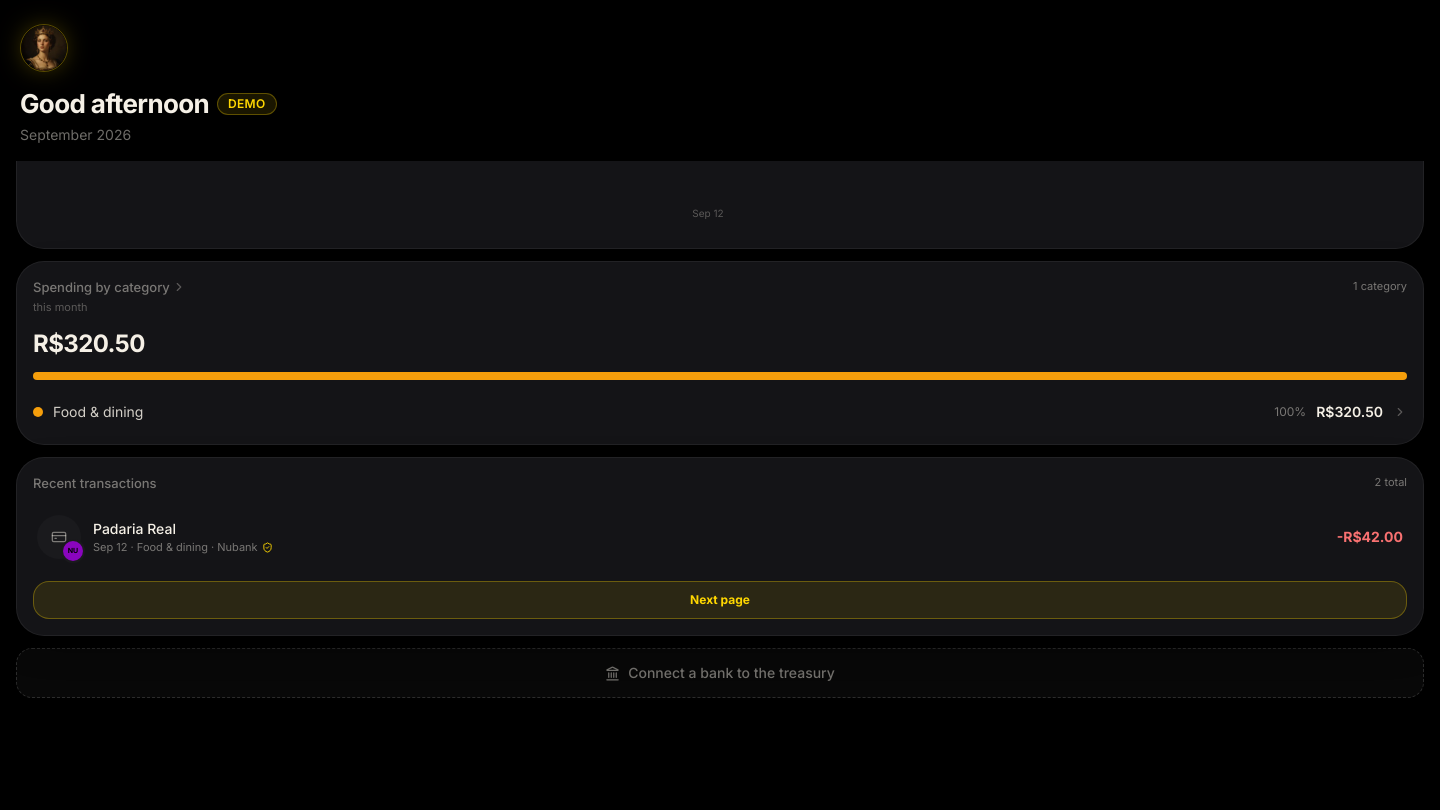
Test case: HomeScreen › loads the next page into the list and the income sheet
(page scrolled)
Expected: the text "Padaria Real" is shown, [93,520,176,537]
Expected: the text "2 total" is shown, [1375,474,1407,490]
Click the button "Next page": (720, 600) [33,581,1407,619]
(page scrolled)
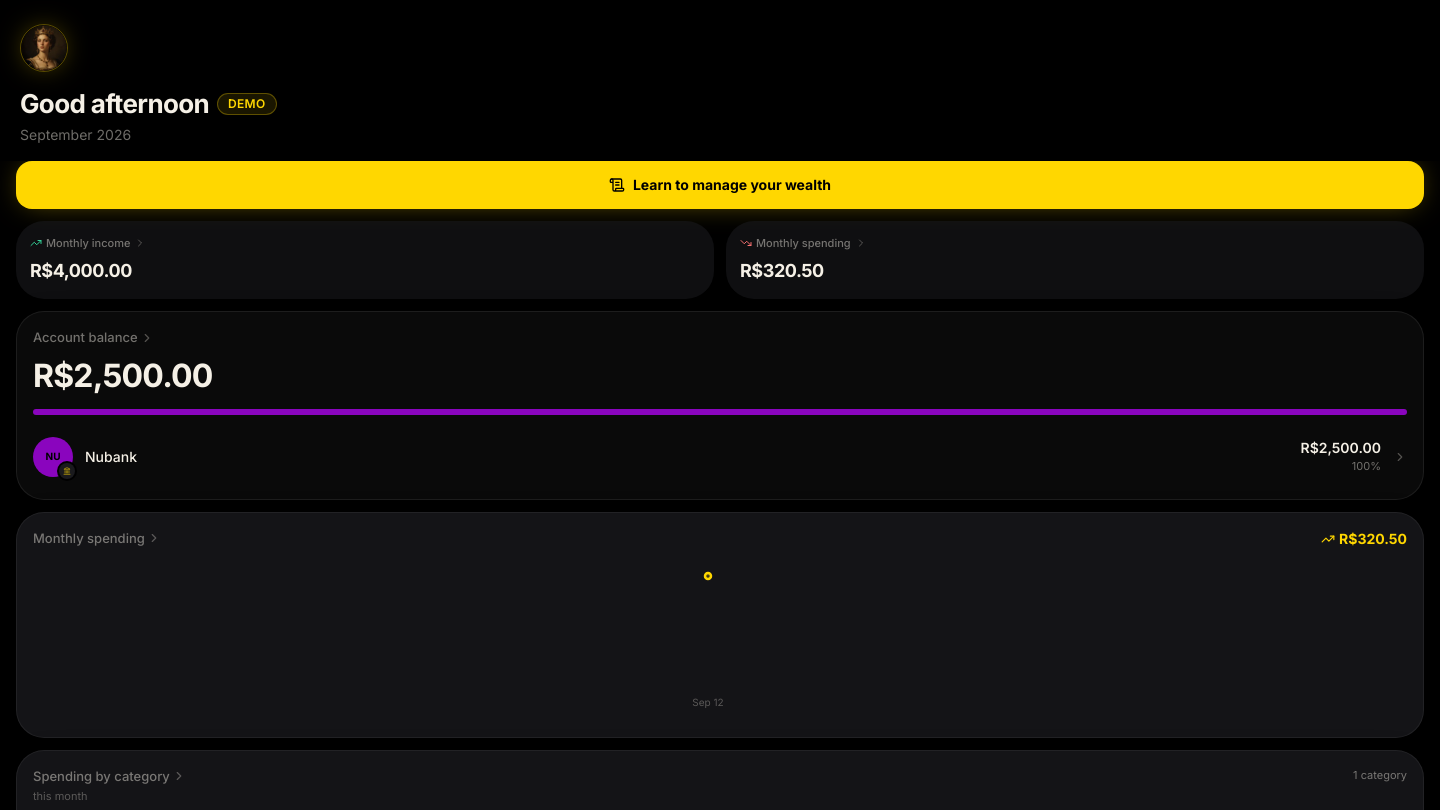
Result: the button "Next page" is gone
Click the button "Monthly income R$4,000.00": (88, 242) [16,220,714,299]
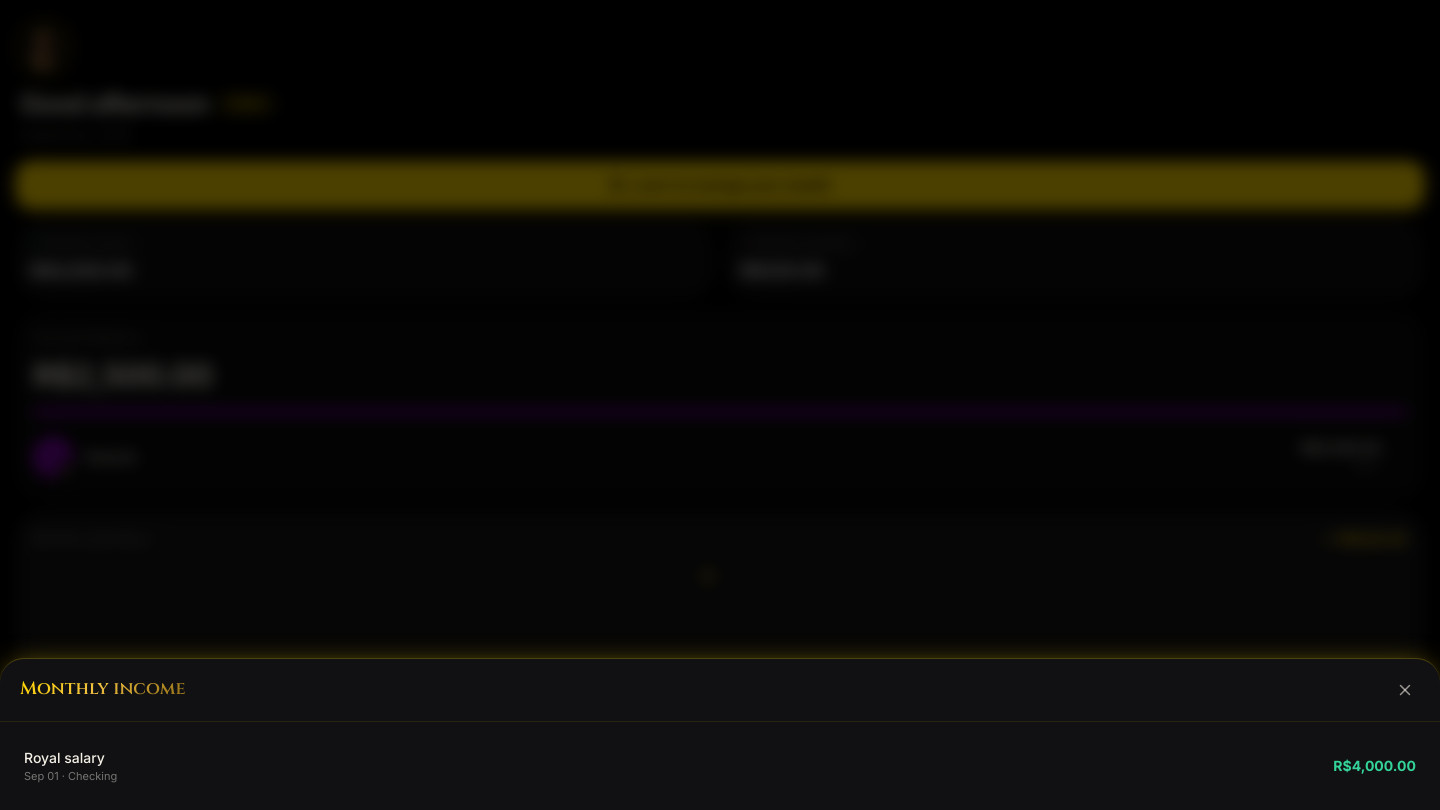
Expected: the dialog does not show "From the recent transactions on this screen.", [0,658,1439,809]
Result: the dialog shows "Royal salary" at [20,738,1420,794]
